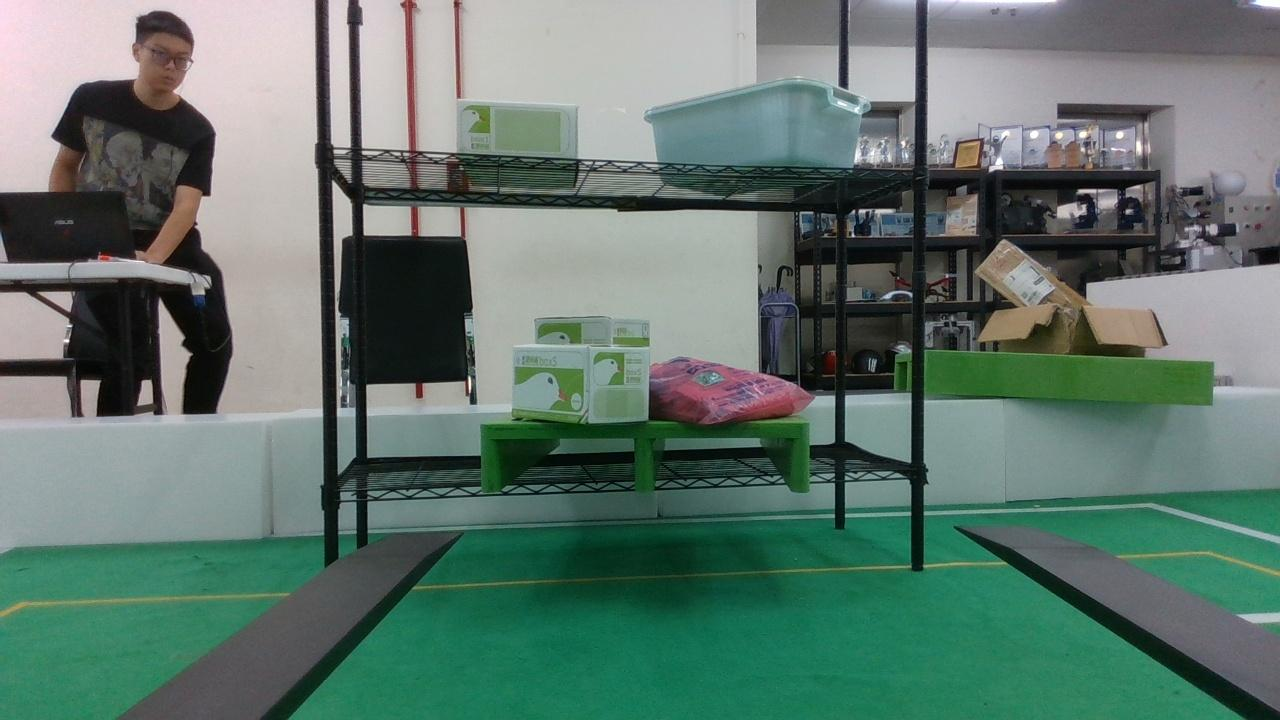Pallet: (479, 422, 811, 493)
